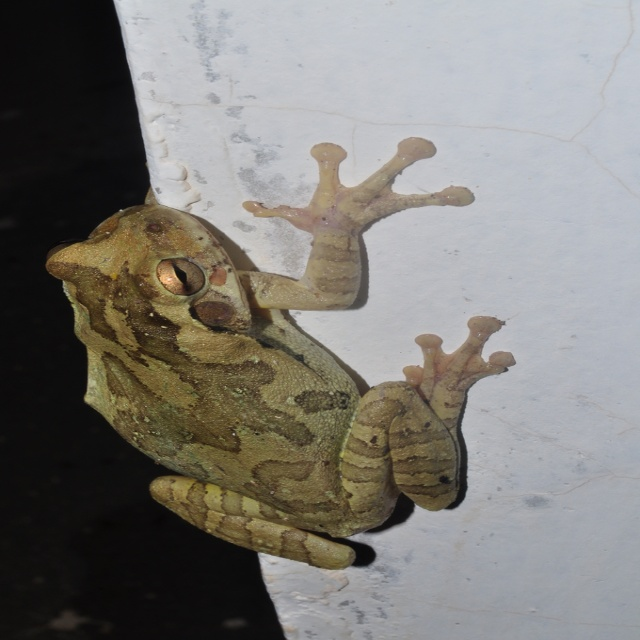Frog: (42, 134, 516, 570)
